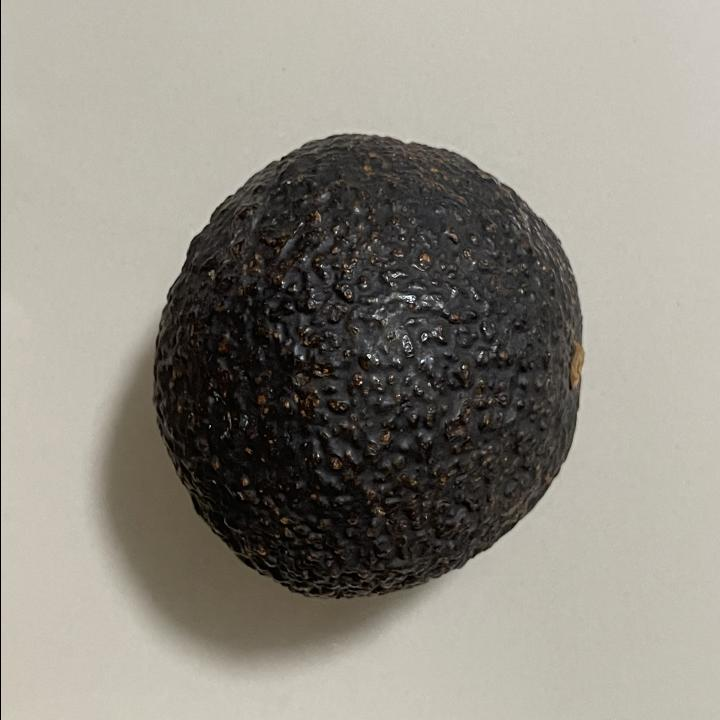Level2: (148, 126, 588, 604)
